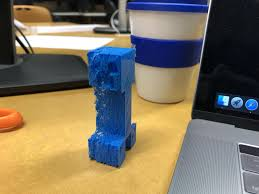fail: (81, 49, 111, 166)
